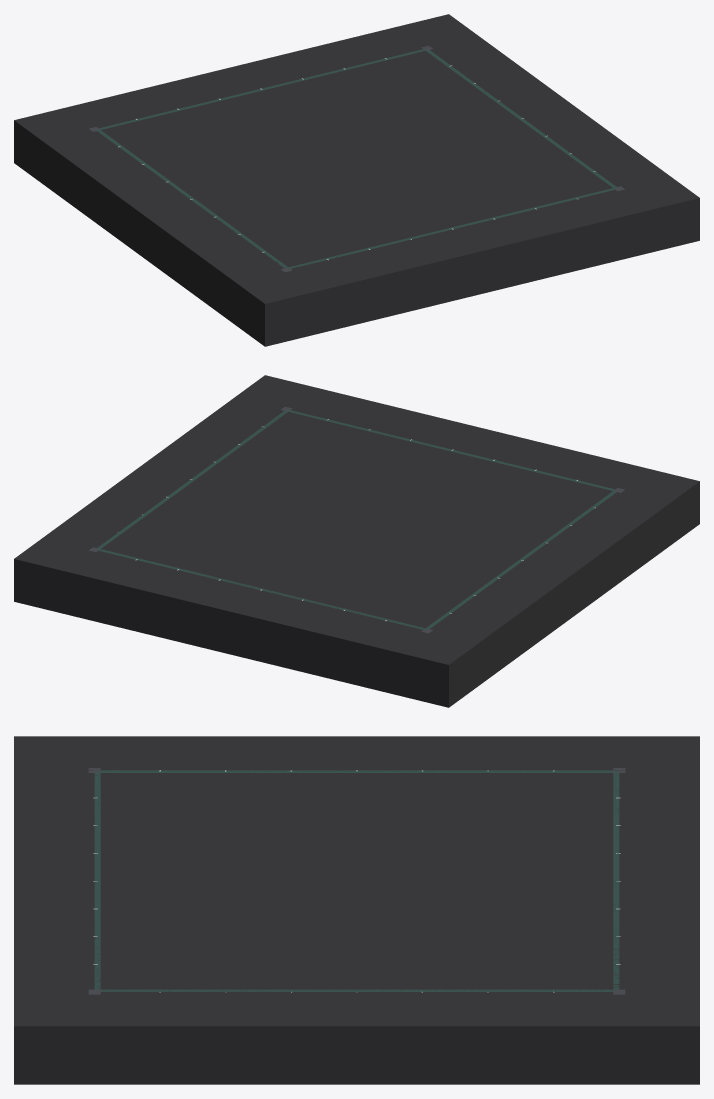
File: bina_16_alt.glb
3 views of the same model, one above another, from view 1: azimuth 30°, elevation 25°; view 2: azimuth 150°, elevation 25°; view 3: azimuth 270°, elevation 25° (orthographic). The views are drawn at different scales.
Visible parts, largest first — view 1: P16_alt; view 2: P16_alt; view 3: P16_alt.
Part boxes in pixels (x1,y1,x2,y2): P16_alt: [14, 14, 699, 346]; P16_alt: [14, 375, 699, 707]; P16_alt: [14, 736, 699, 1084].
Size of the model in its own units: 34 by 3.2 by 34.
